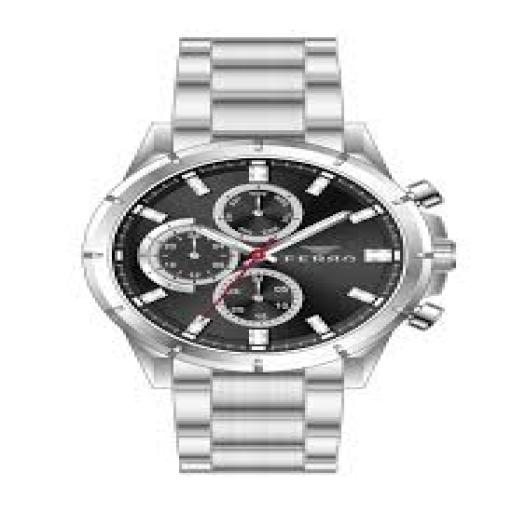KolSaati: (57, 10, 484, 490)
